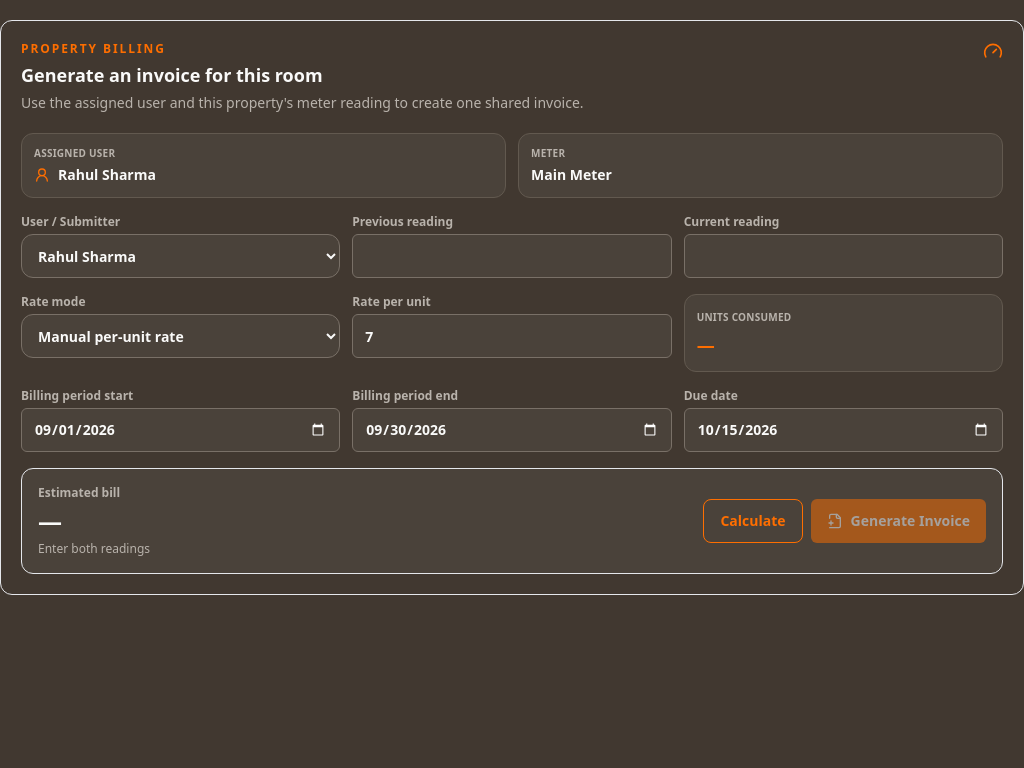
Test: PropertyBilling › blocks negative units before invoice generation
Type "1200" into the field labelled "Previous reading".
click(512, 256); type("1200")  # box [352,234,672,278]
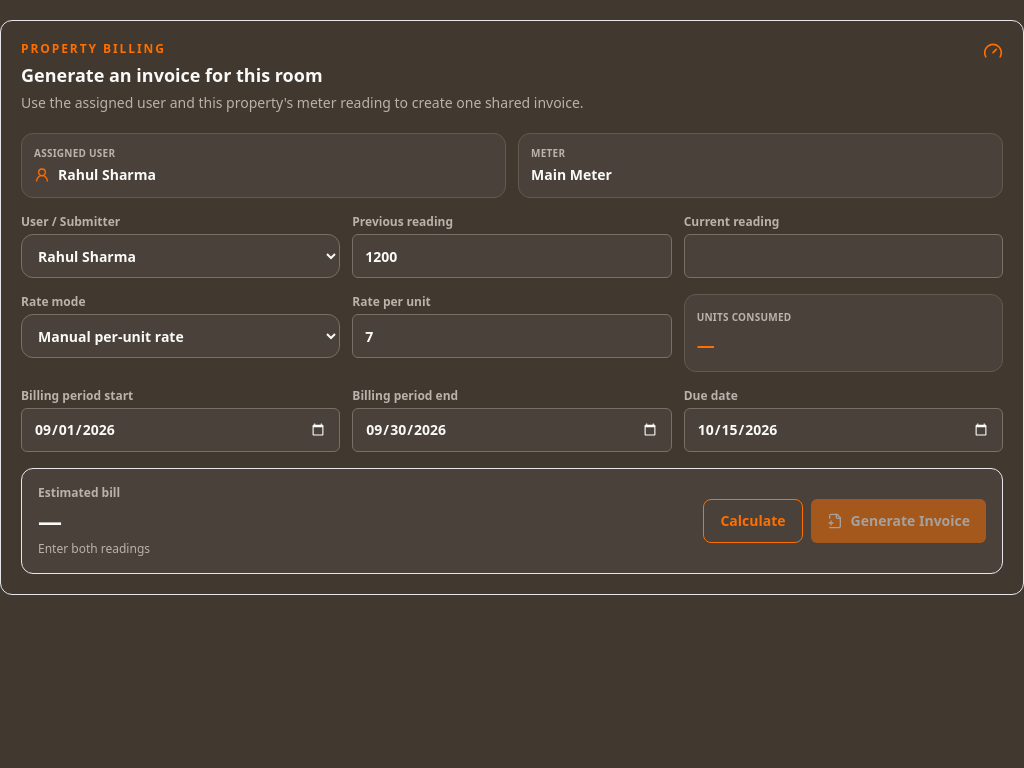
Type "1000" into the field labelled "Current reading".
click(843, 256); type("1000")  # box [684,234,1003,278]
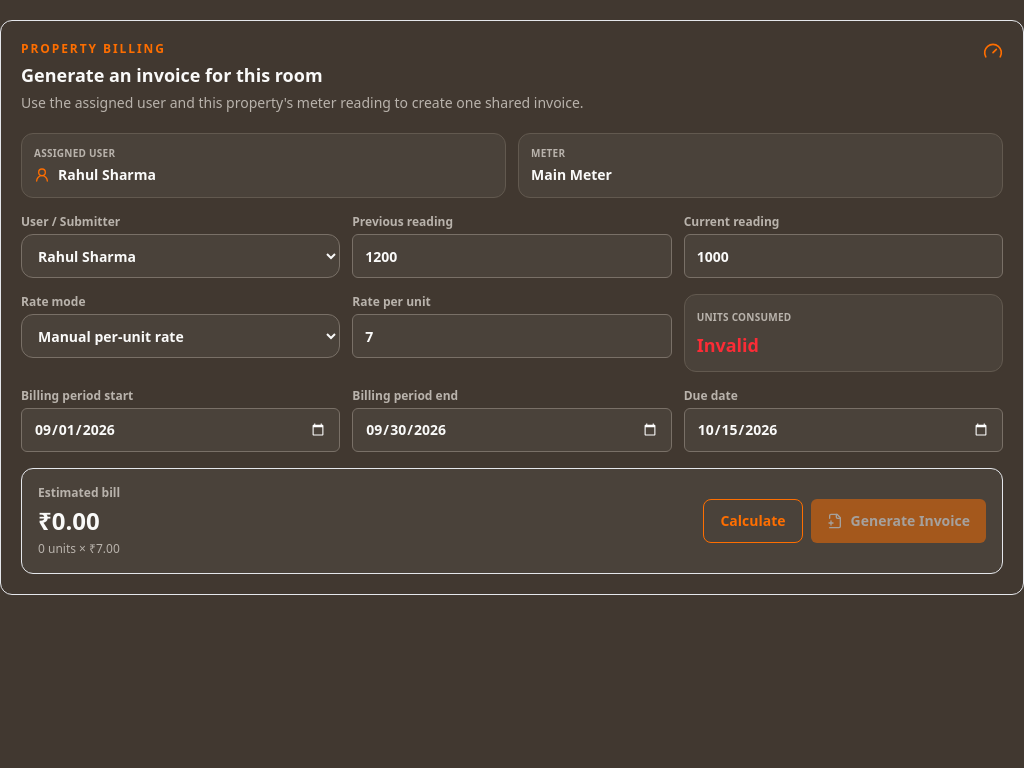
Click the button "Calculate".
click(753, 521)  # box [704,499,803,543]
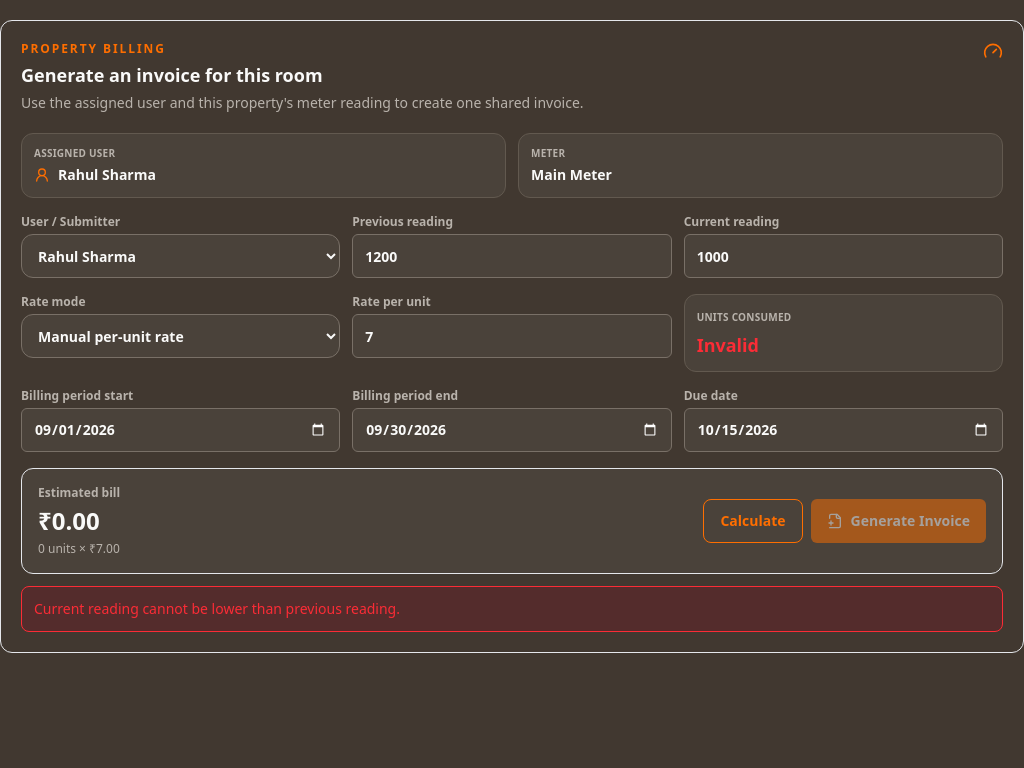
Expected: the button "Generate Invoice" is disabled, [811,499,986,543]
Expected: the message reads "Current reading cannot be lower than previous reading.", [34,599,400,618]
